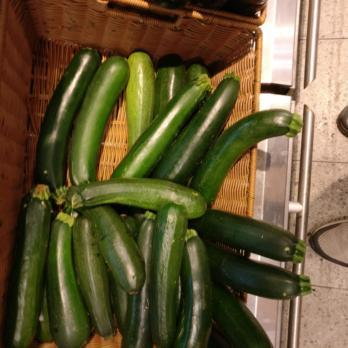Cucumber: (53, 38, 237, 348), (165, 209, 312, 302), (10, 173, 73, 348)
